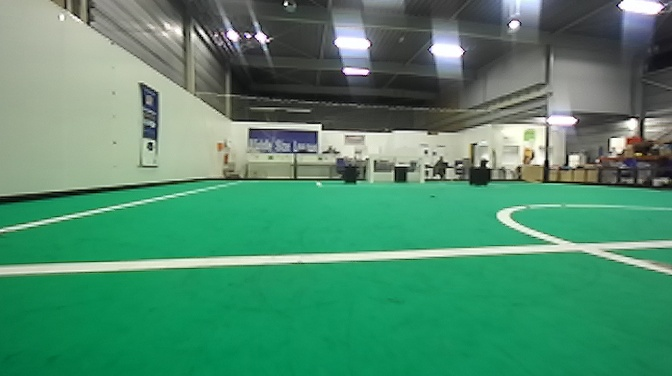goalpost: (417, 146, 426, 187), (367, 153, 373, 185)
